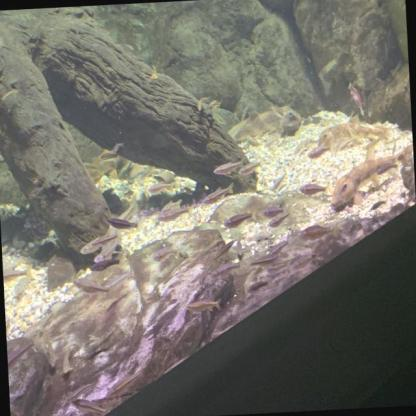fish: (318, 138, 416, 216), (305, 105, 395, 161), (223, 104, 303, 146), (84, 364, 142, 412), (65, 269, 123, 302), (103, 192, 143, 238), (73, 222, 123, 258), (83, 230, 129, 267), (296, 219, 341, 245), (246, 243, 287, 271), (154, 198, 194, 226), (200, 238, 239, 266), (144, 170, 178, 199), (203, 180, 238, 208), (3, 260, 30, 294), (210, 154, 247, 178), (185, 296, 224, 317), (71, 394, 108, 415), (223, 208, 254, 233), (104, 213, 140, 233), (266, 206, 296, 230), (346, 78, 366, 112), (260, 198, 287, 223), (42, 334, 59, 370), (238, 157, 266, 178), (291, 252, 318, 273), (291, 134, 315, 157), (60, 343, 76, 377), (298, 181, 332, 196), (306, 143, 336, 160), (9, 275, 31, 298), (268, 238, 292, 258), (152, 245, 180, 262), (161, 198, 184, 215), (211, 109, 228, 126), (196, 95, 212, 112), (6, 314, 15, 340), (112, 140, 126, 156), (209, 99, 223, 110), (182, 186, 194, 198)
